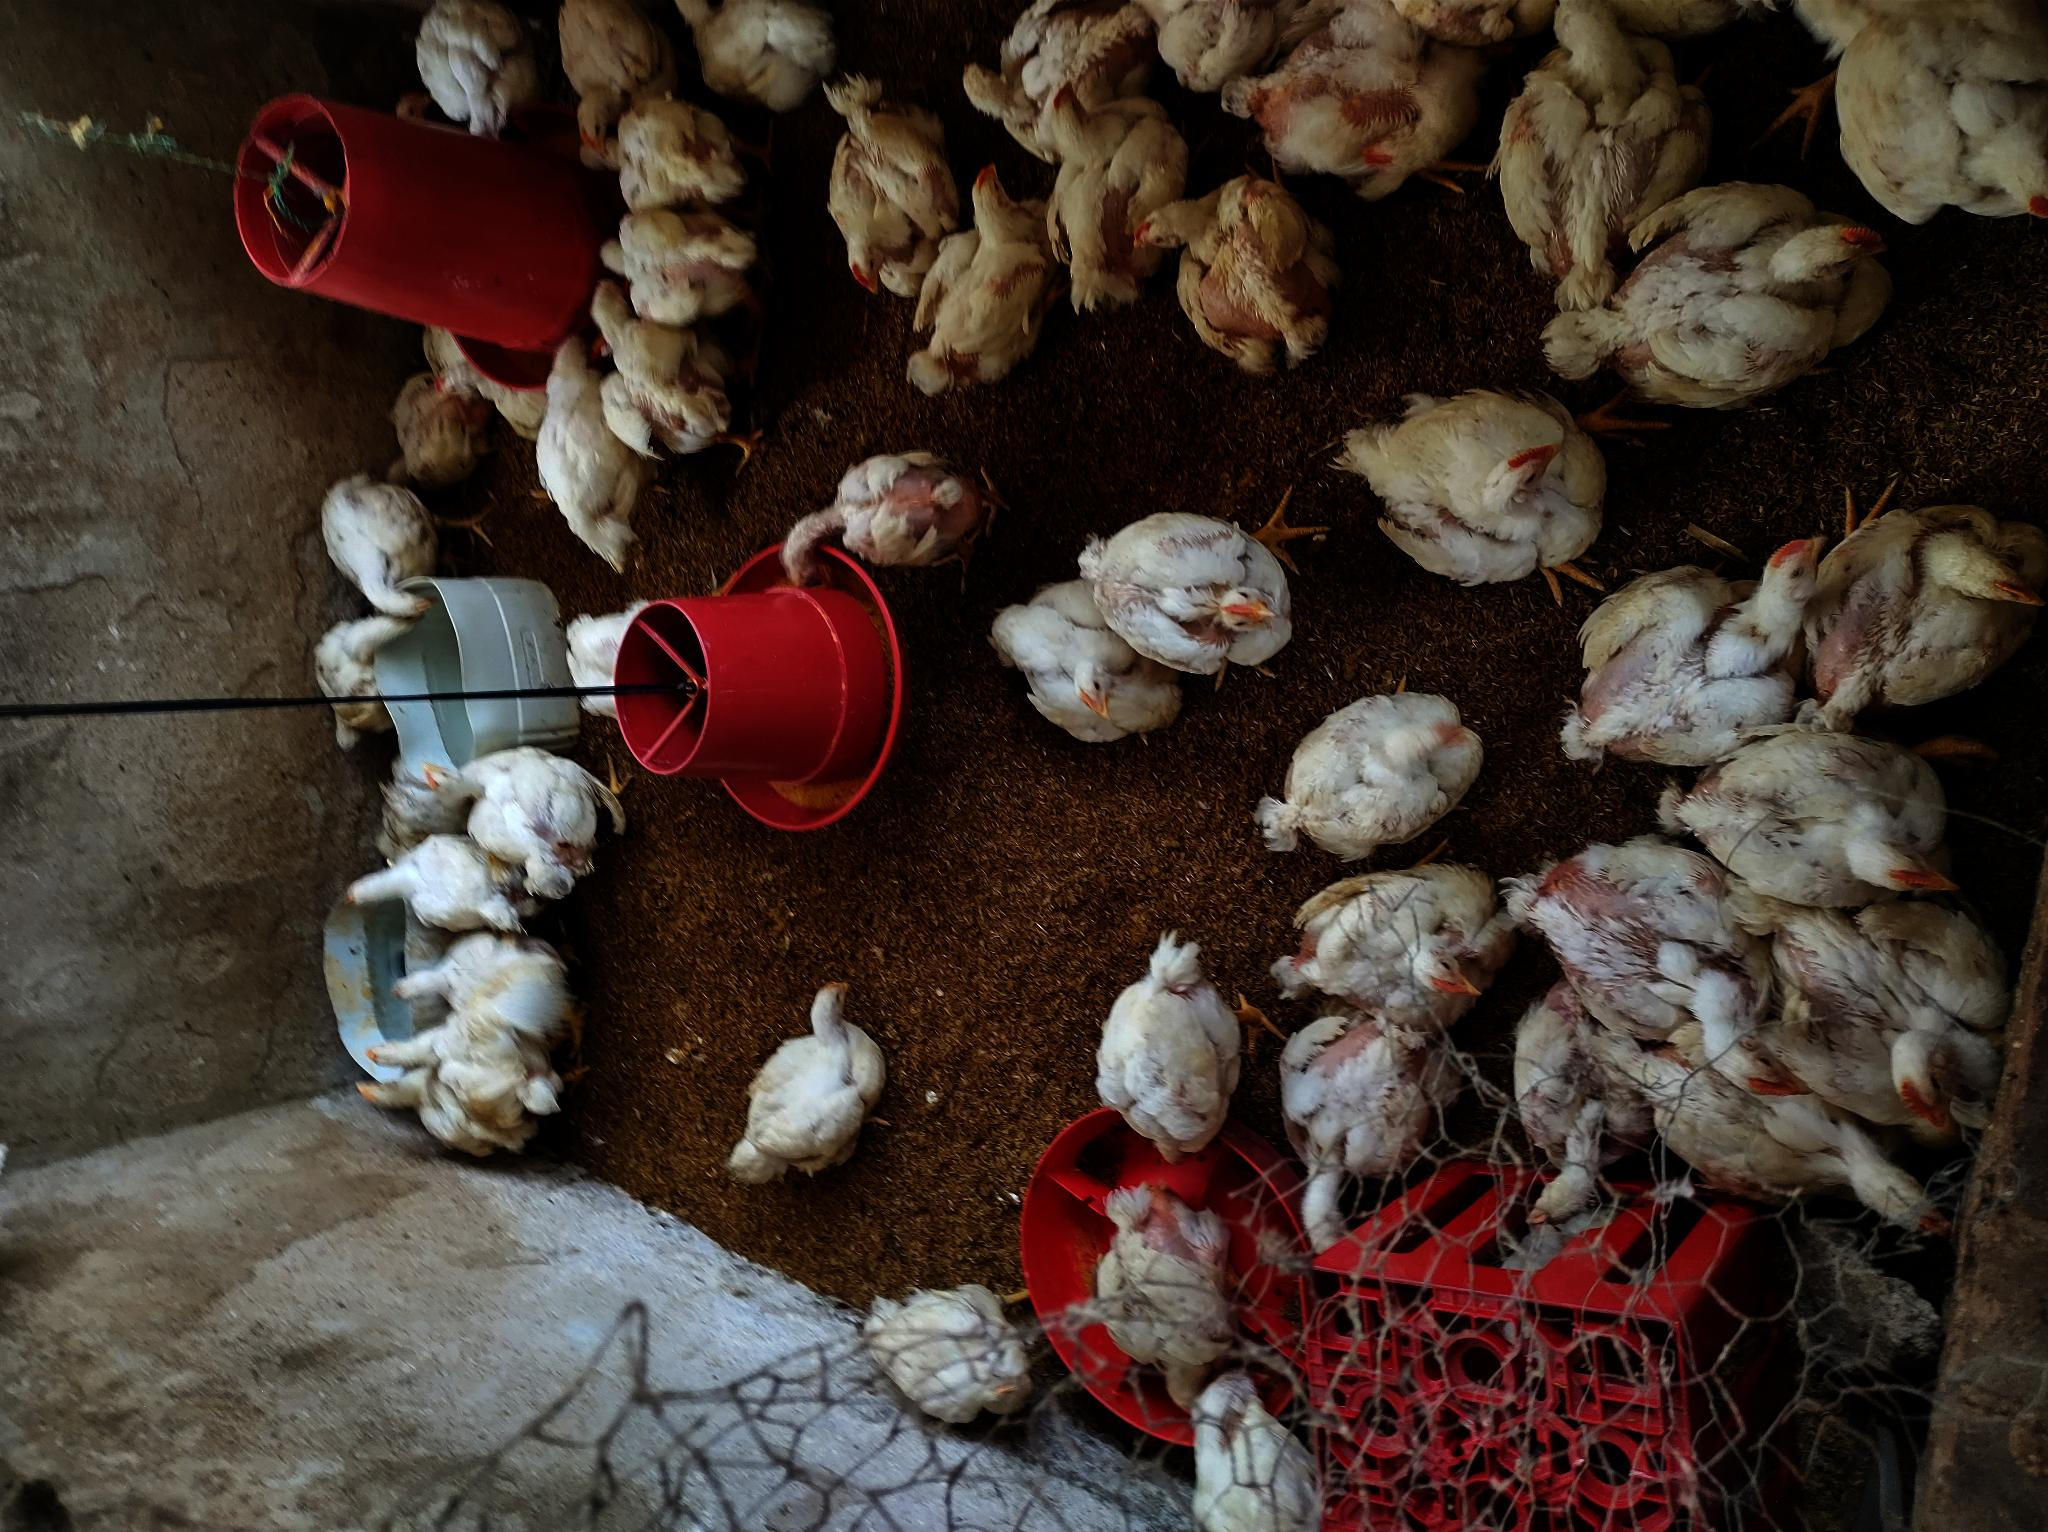Pollos: (1643, 970, 1951, 1242), (1544, 521, 1832, 771), (1498, 843, 1783, 1094), (1561, 180, 1877, 402), (1763, 887, 2005, 1138), (1491, 0, 1697, 286), (1808, 480, 2035, 718), (1641, 727, 1951, 900), (1347, 380, 1609, 573), (1828, 0, 2048, 222), (1240, 0, 1470, 196), (1282, 990, 1441, 1257), (1253, 687, 1475, 871), (1121, 175, 1321, 369), (718, 974, 883, 1197), (1279, 858, 1503, 1020), (1076, 513, 1300, 674), (1504, 978, 1646, 1231), (978, 578, 1182, 752), (898, 163, 1051, 394), (1031, 77, 1181, 309), (777, 446, 989, 591), (1094, 946, 1240, 1154), (964, 0, 1145, 163), (825, 77, 952, 294), (428, 748, 616, 895), (1083, 1196, 1245, 1360), (582, 282, 730, 459), (866, 1286, 1043, 1426), (541, 325, 632, 574), (1173, 1374, 1319, 1530), (360, 1012, 560, 1126), (592, 203, 758, 327), (315, 467, 442, 623), (341, 832, 518, 943), (388, 937, 570, 1035), (310, 600, 430, 748), (613, 77, 732, 219), (412, 0, 536, 132), (563, 0, 656, 171), (356, 1080, 531, 1165), (695, 0, 822, 106), (381, 362, 471, 476)
